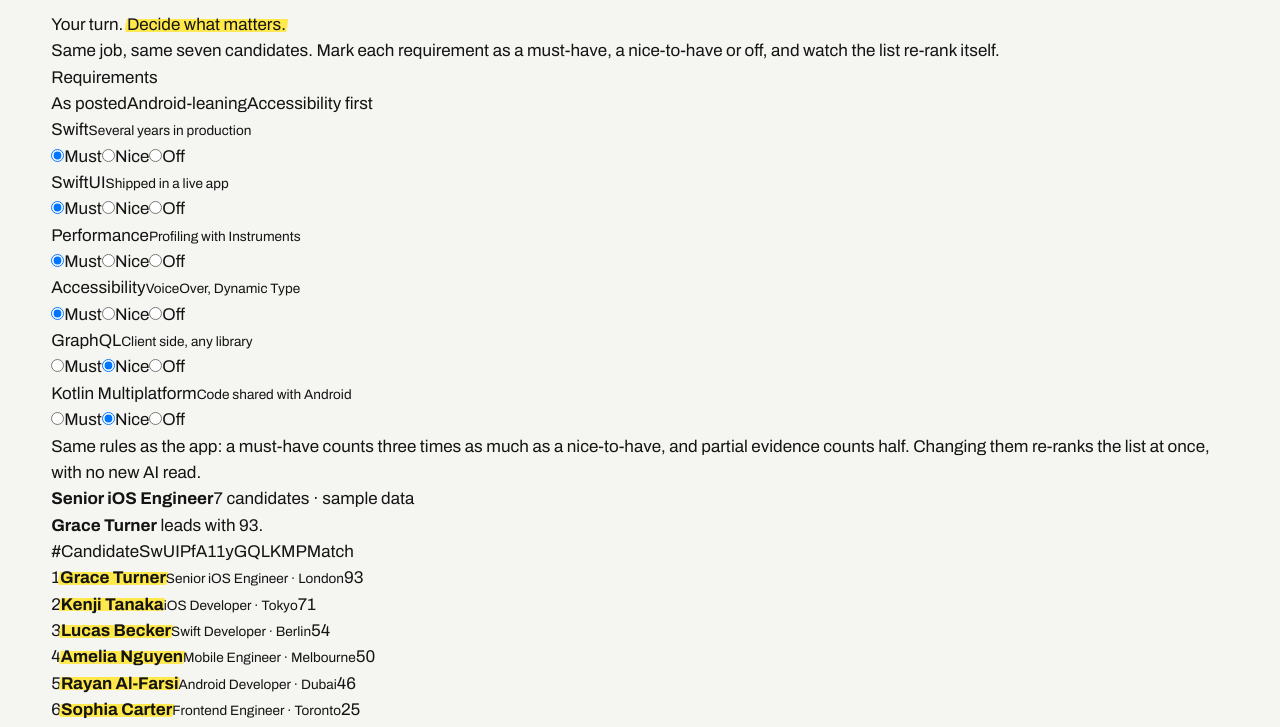
turns every requirement off and asks for one to rank by
Click the radio button labelled "Off" below "Several years in production": (156, 155) [149,149,162,162]
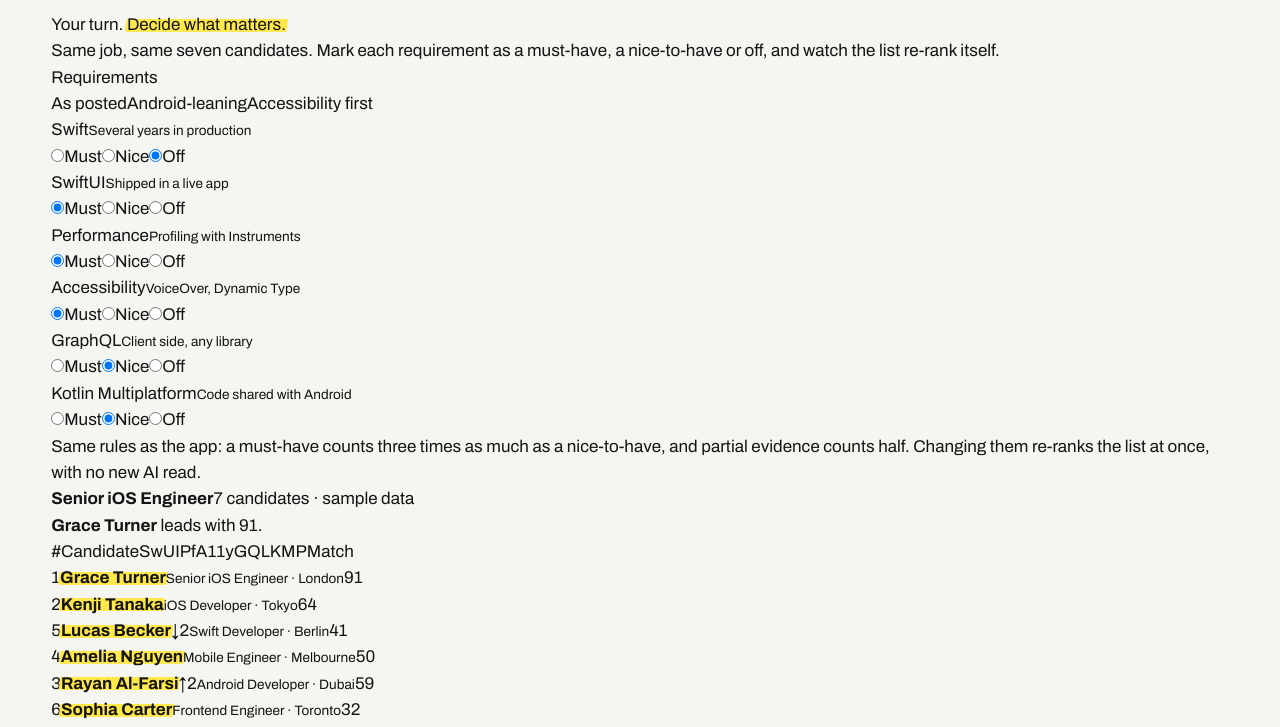
Click the radio button labelled "Off" below "SwiftUI": (156, 208) [149,201,162,214]
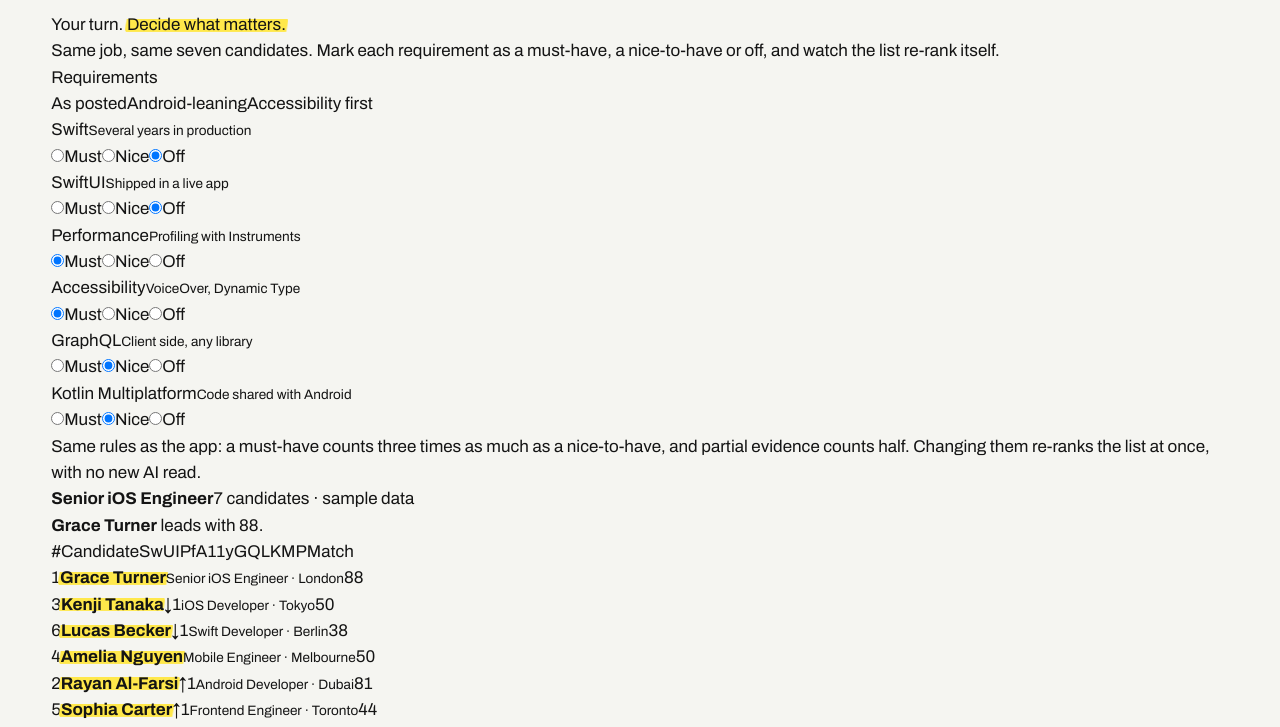
Click the radio button labelled "Off" below "Performance": (156, 261) [149,254,162,267]
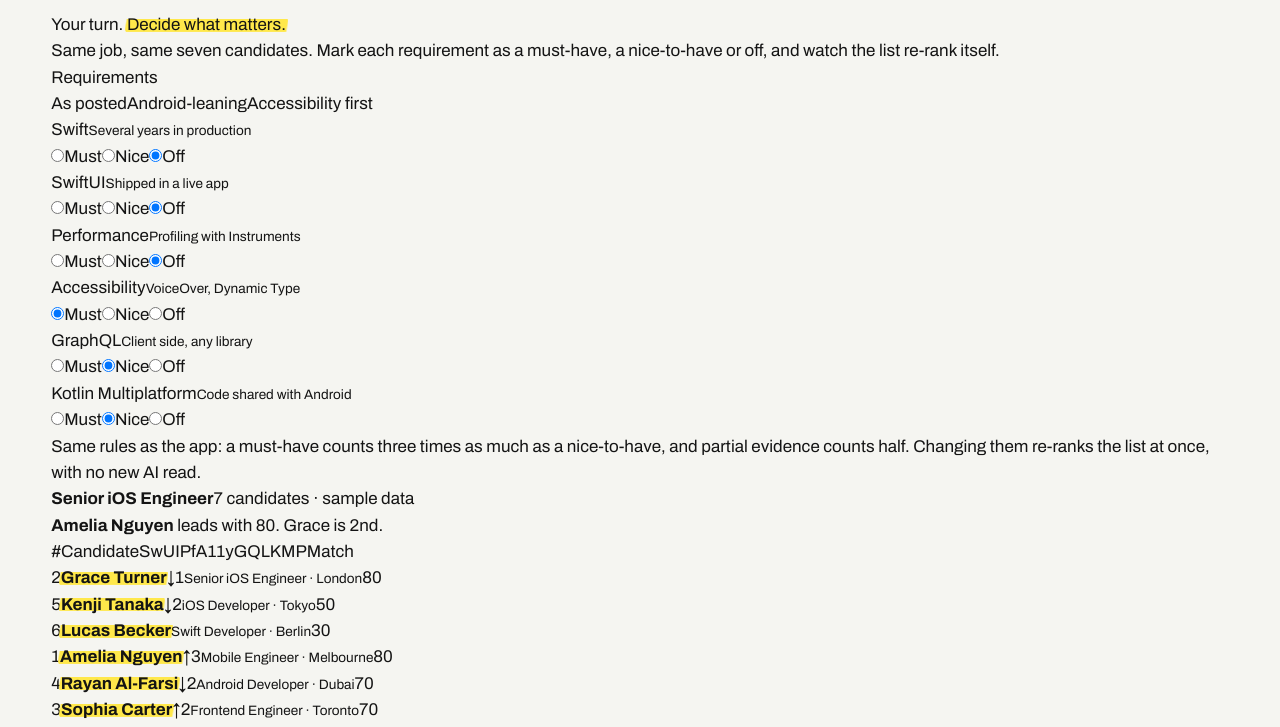
Click the radio button labelled "Off" below "VoiceOver, Dynamic Type": (156, 313) [149,307,162,320]
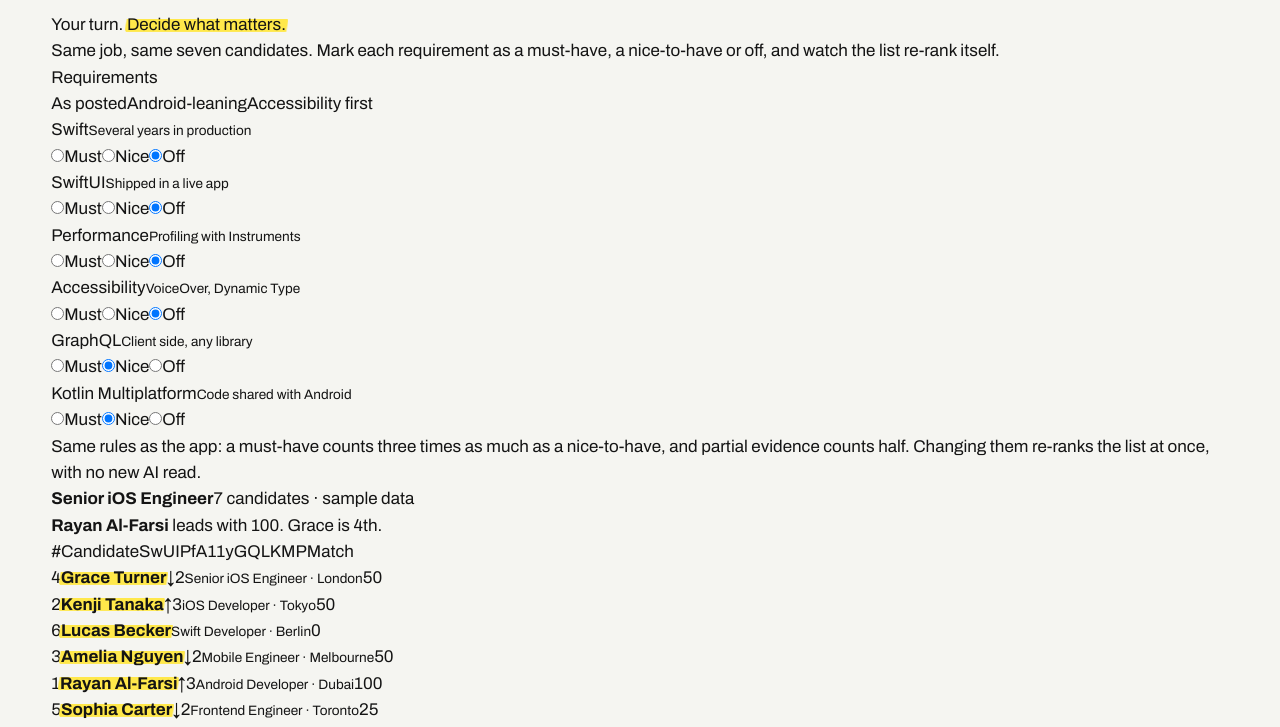
Click the radio button labelled "Off" below "GraphQL": (156, 366) [149,360,162,372]
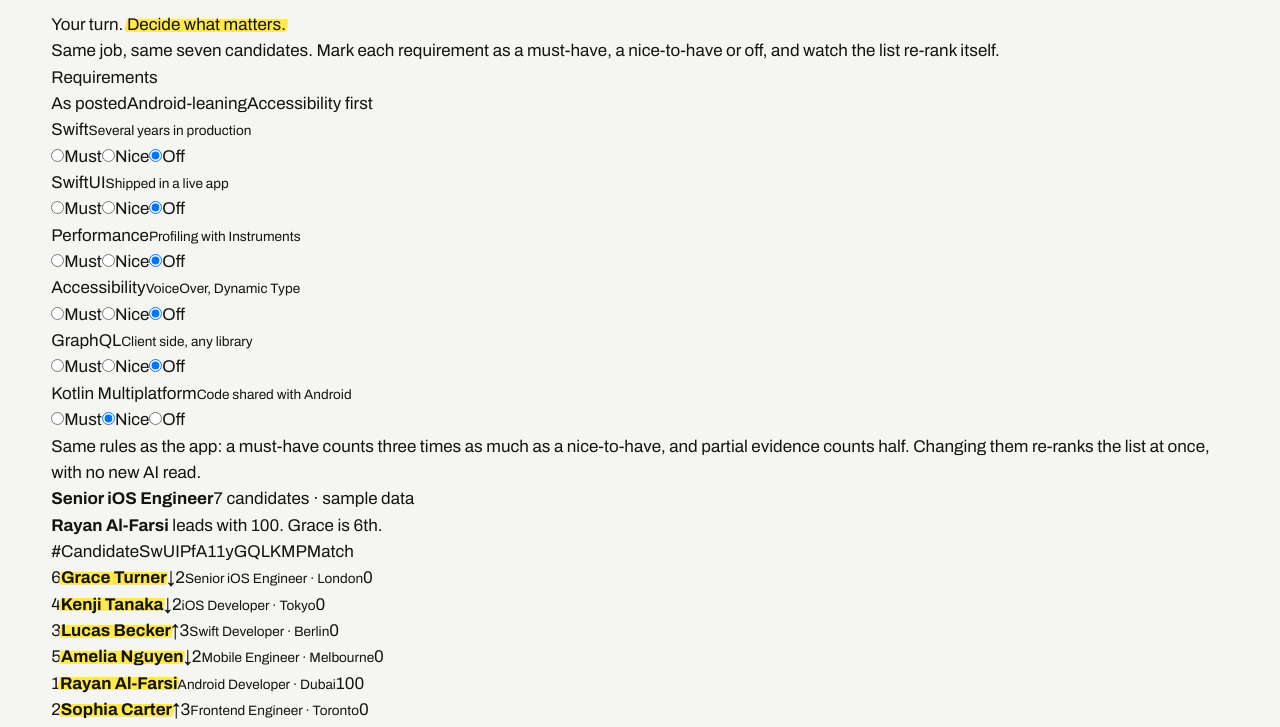
Click the radio button labelled "Off" below "Kotlin Multiplatform": (156, 419) [149,412,162,425]
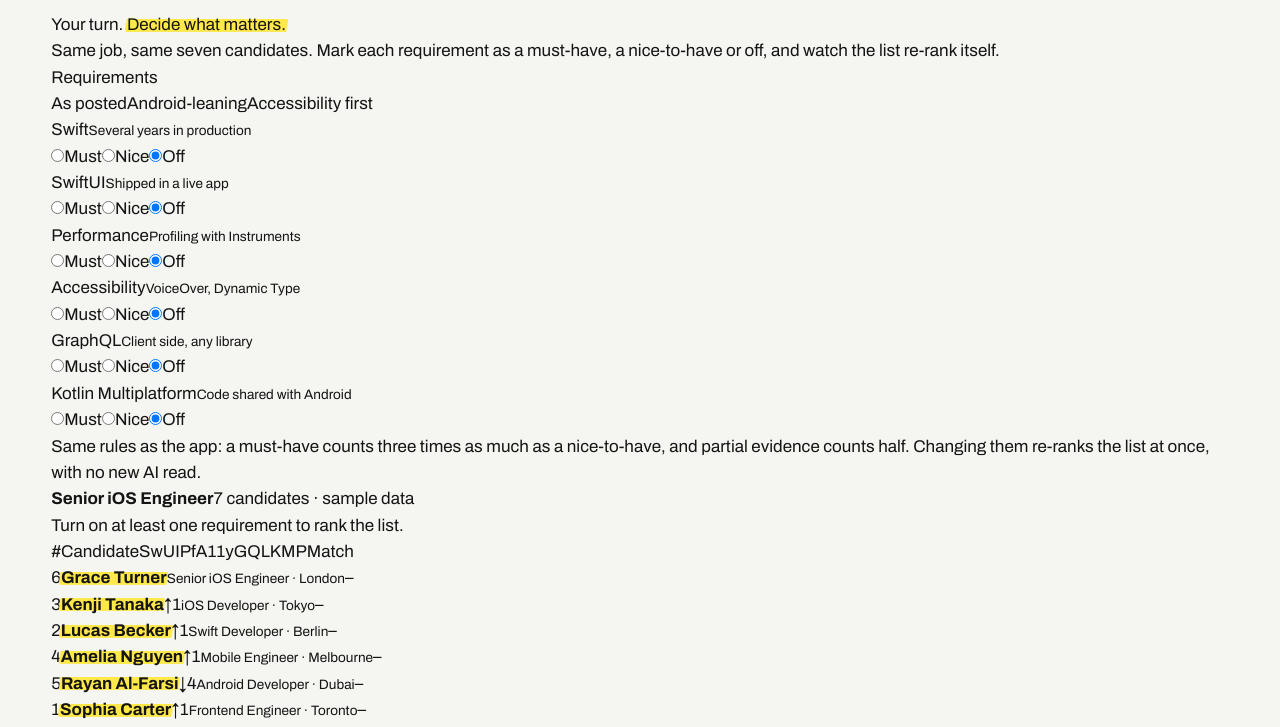
expect the text "Turn on at least one requirement to rank the list." is shown: met, box [51,516,404,534]
